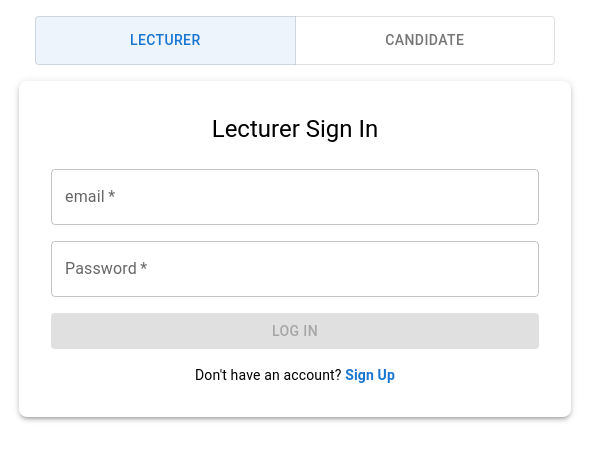
Test case: LoginPage › login button is disabled when email is invalid or password is empty
Expected: the button "Log In" is disabled, [51,312,539,349]
Type "invalid-email" into the field labelled "email *". click: (295, 196)
box: [51,168,539,224]
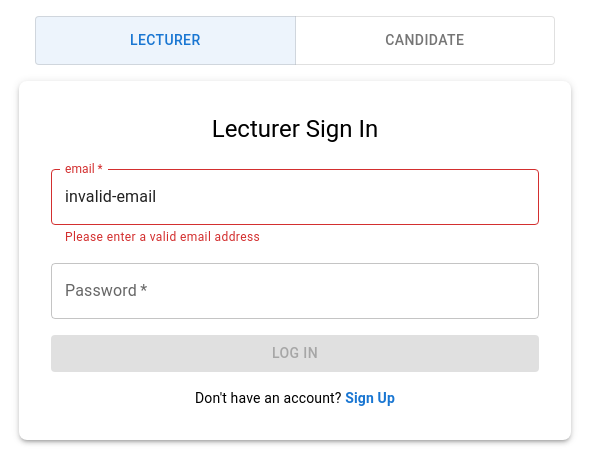
Type "password" into the password field labelled "Password *". click: (295, 291)
box: [51,263,539,319]
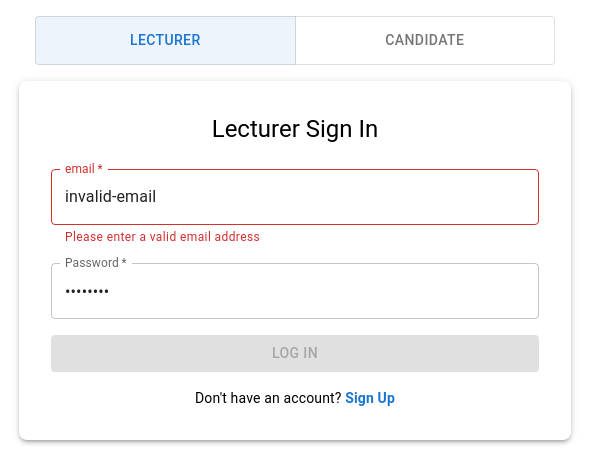
Expected: the button "Log In" is disabled, [51,335,539,372]
Replace the text in the field labelled "email *" with "test@example.com". click: (295, 196)
box: [51,168,539,224]
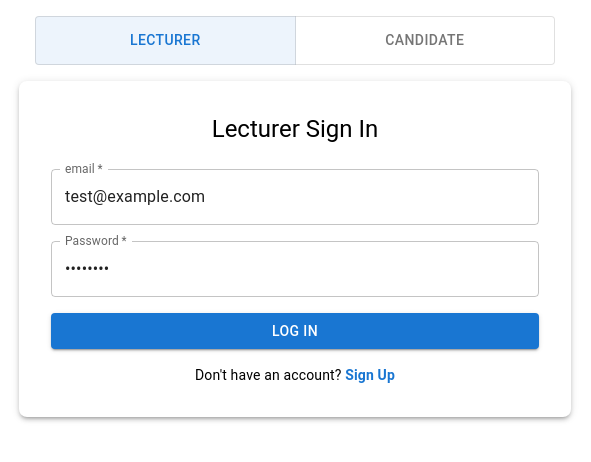
Result: the button "Log In" is enabled at [51,312,539,349]
